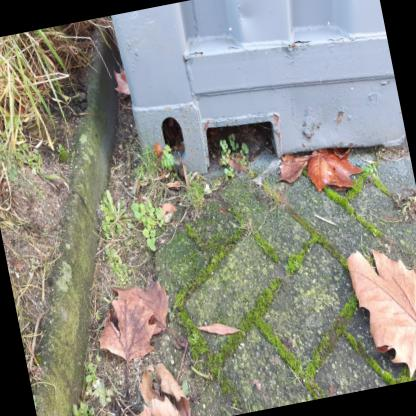CornerCasting: (126, 85, 219, 191)
